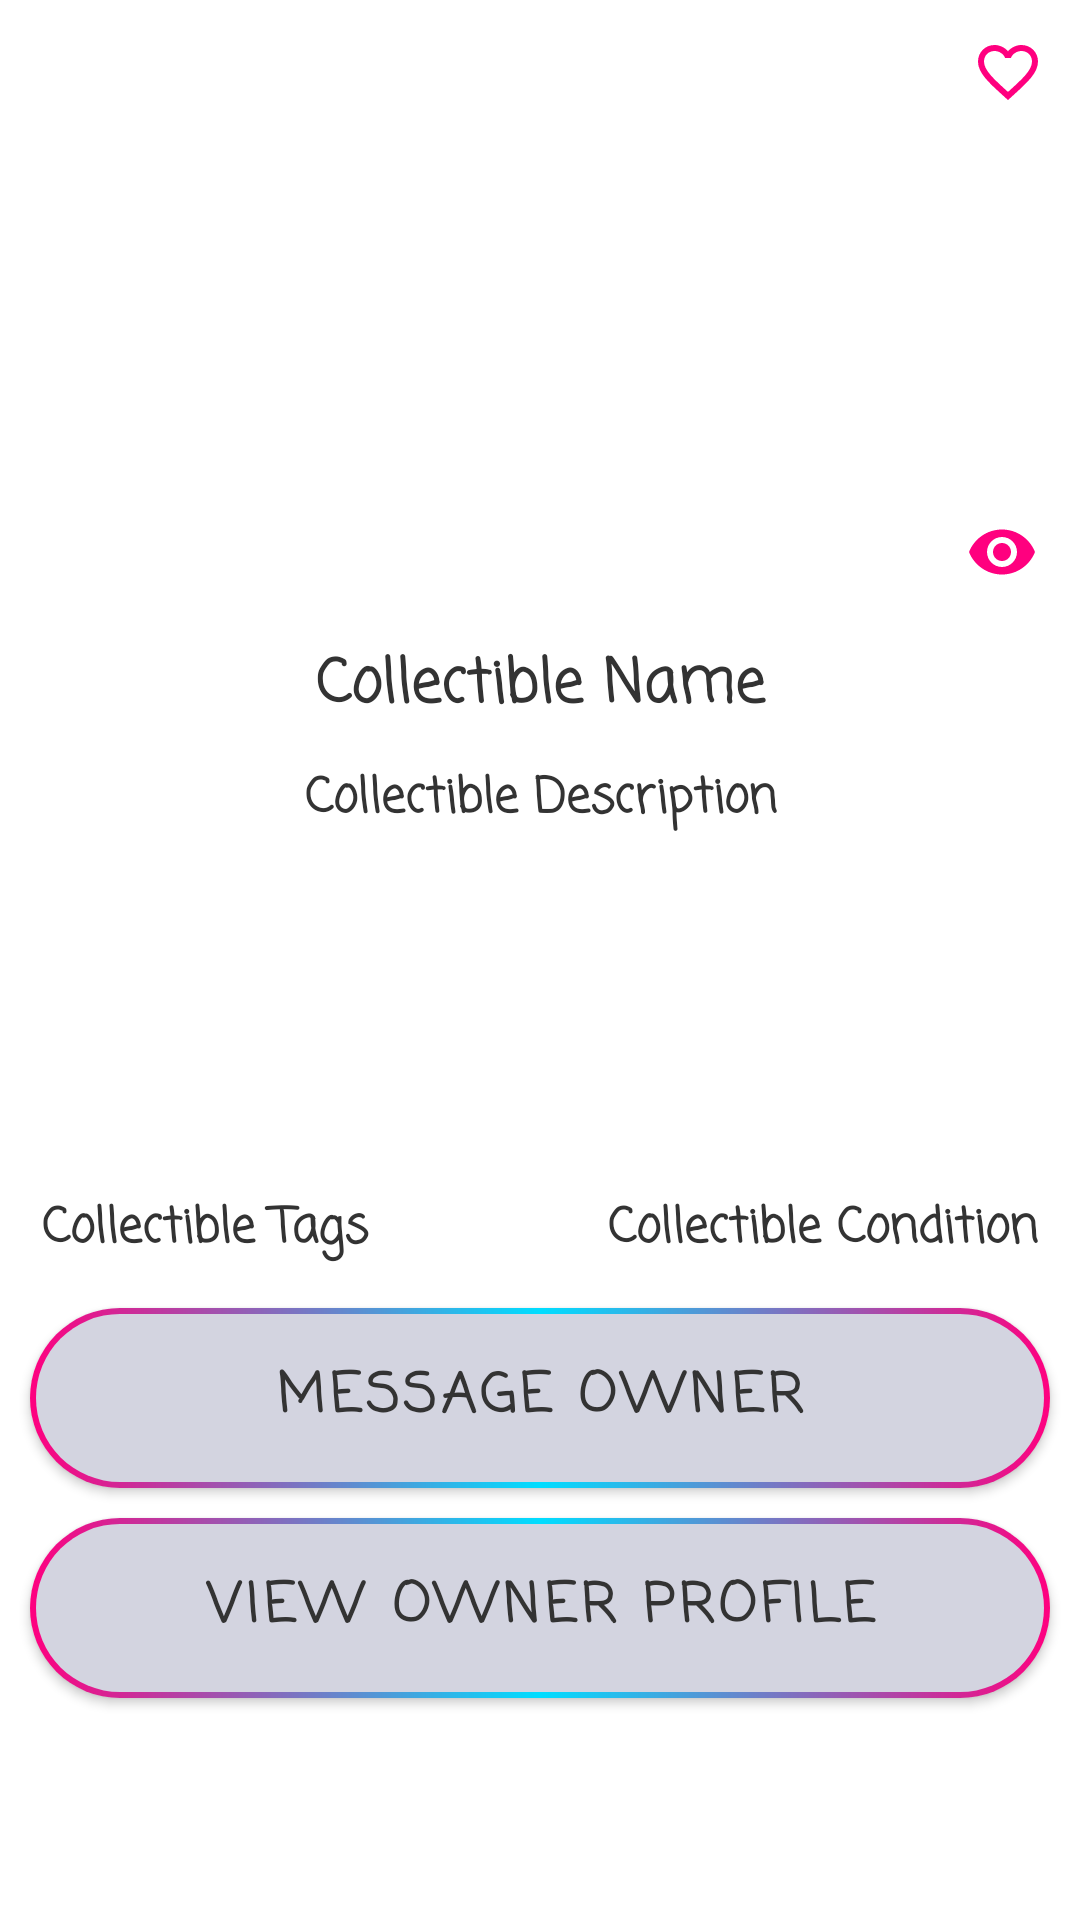

Locate icon controls on the screen. Image size 1080×1920, boxes as region(x1, y1, x2, y2).
favorite border: region(978, 45, 1038, 100)
